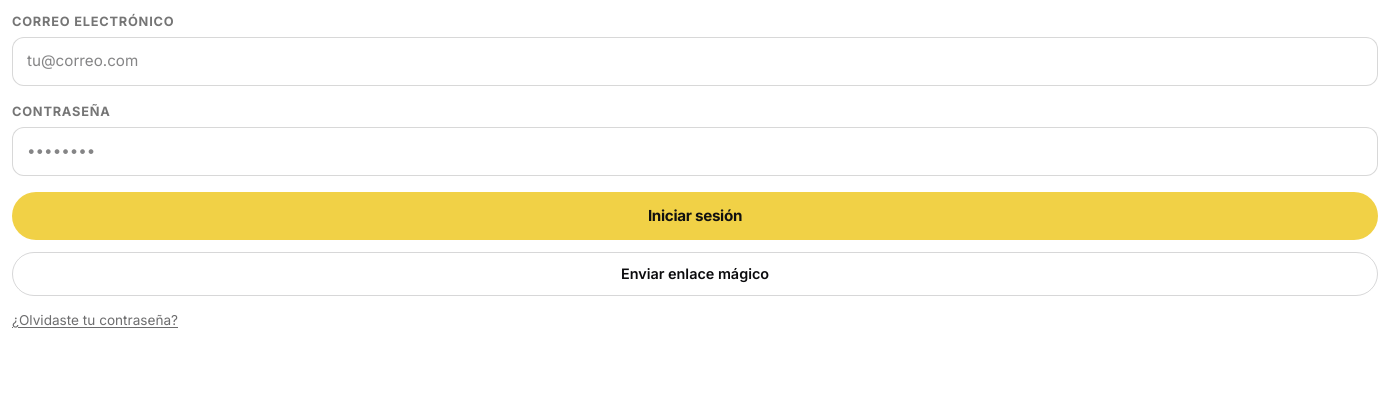
Test: MembershipLoginPanel — magic link timeout › shows a safe timeout message and re-enables the magic link button when signInWithOtp never resolves
Type "cliente@example.com" into the field with placeholder "tu@correo.com" at (695, 62), box x1=12 y1=37 x2=1378 y2=86
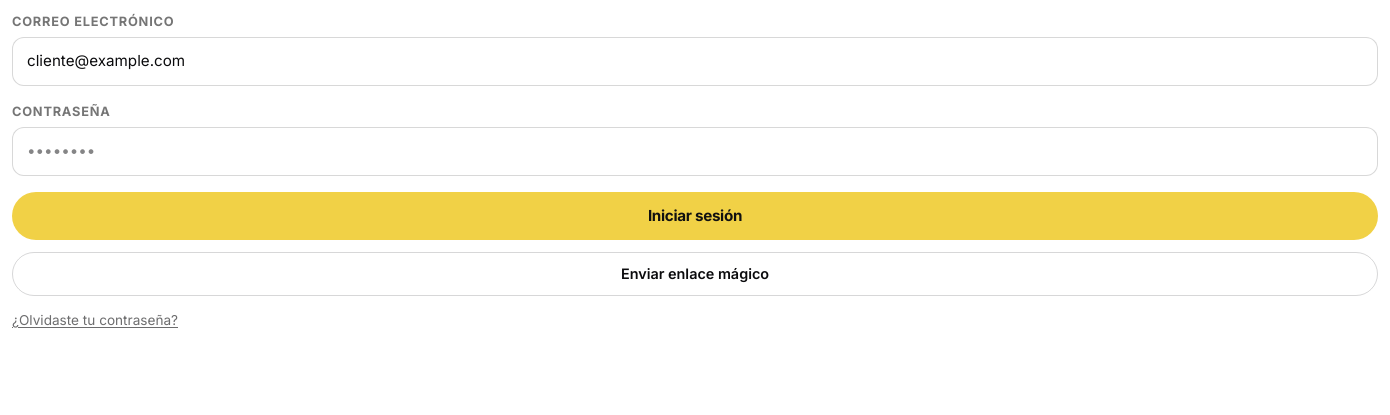
Click the button "Enviar enlace mágico" at (695, 274), box x1=12 y1=252 x2=1378 y2=296
Wait 15000 ms
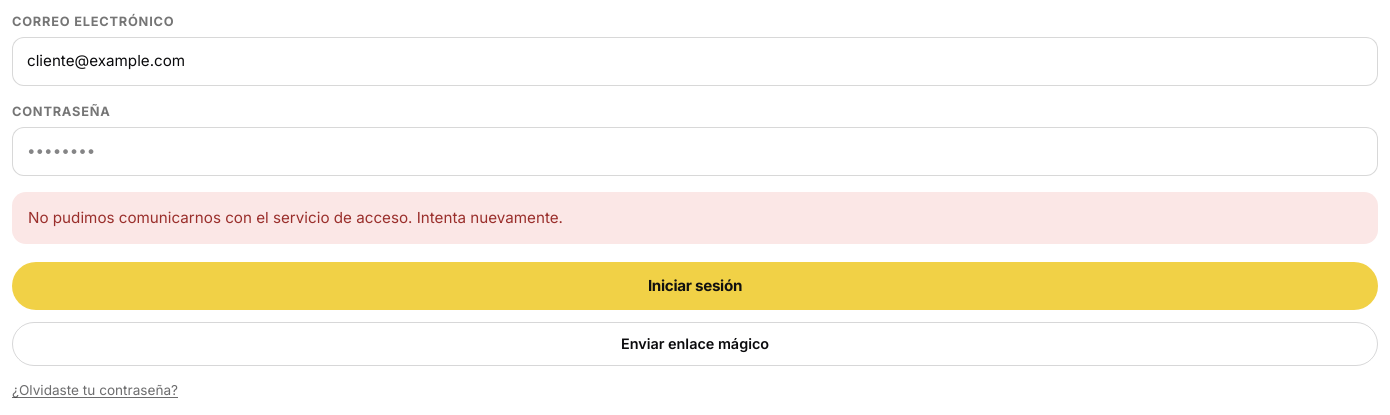
Expected: the button "Enviar enlace mágico" is enabled, x1=12 y1=322 x2=1378 y2=366
Now the message reads "No pudimos comunicarnos con el servicio de acceso. Intenta nuevamente.", box x1=28 y1=208 x2=563 y2=227
